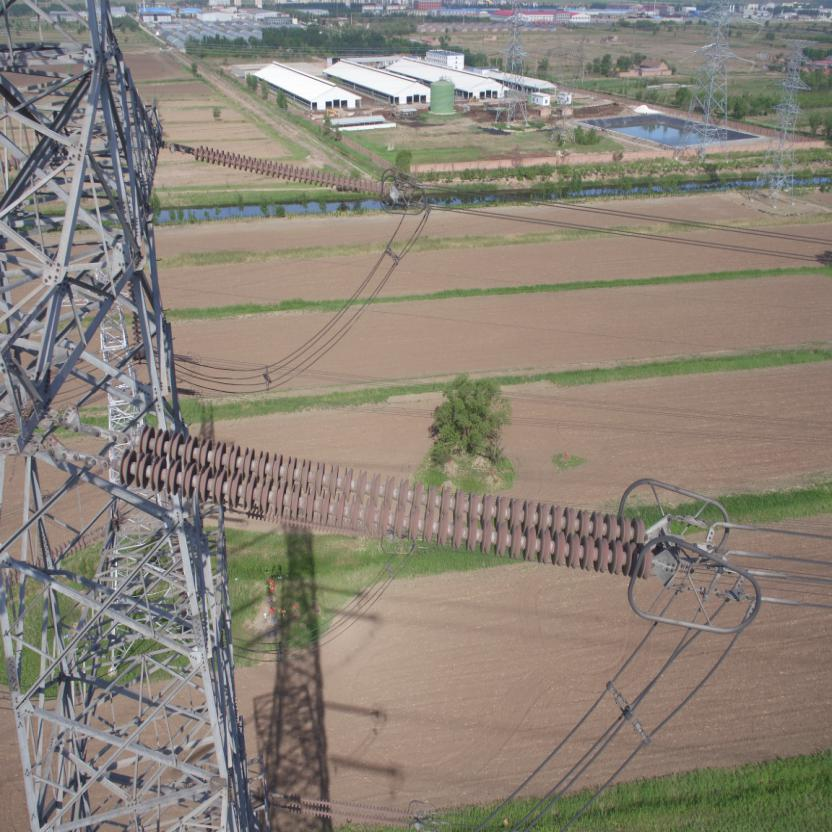insulator: (89, 417, 661, 580), (181, 142, 394, 200)
